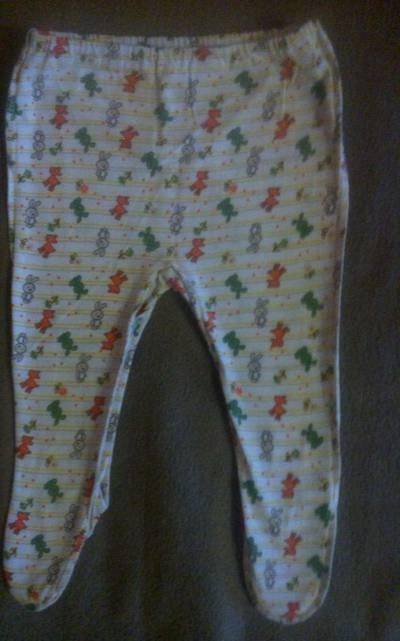Pants: (2, 25, 372, 622)
